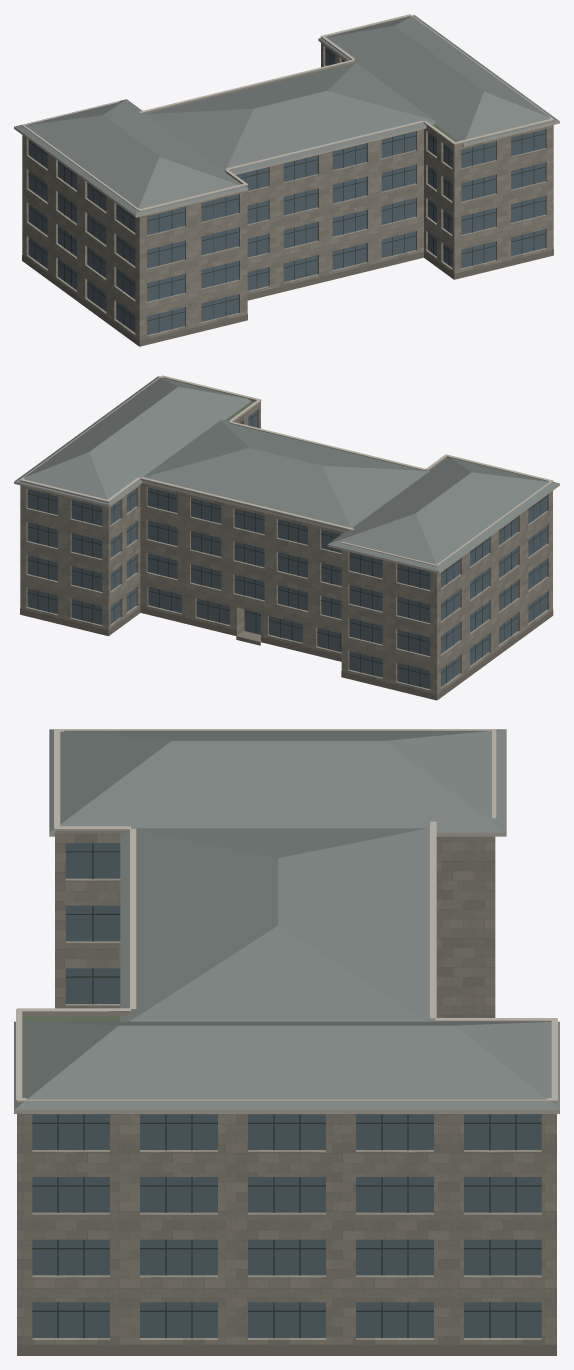
The picture shows the model from 3 angles, top to bottom: view 1: azimuth 30°, elevation 25°; view 2: azimuth 150°, elevation 25°; view 3: azimuth 270°, elevation 25°; orthographic projection. The views are drawn at different scales.
Visible parts, largest first — view 1: gradSchool__roofAccent, gradSchool__wall, gradSchool__glass, gradSchool__trim, gradSchool__frame, gradSchool__base, gradSchool__parapet; view 2: gradSchool__roofAccent, gradSchool__wall, gradSchool__glass, gradSchool__trim, gradSchool__frame, gradSchool__base, gradSchool__parapet; view 3: gradSchool__roofAccent, gradSchool__wall, gradSchool__glass, gradSchool__trim, gradSchool__base, gradSchool__frame, gradSchool__parapet.
Part boxes in pixels (left/top/right/bottom): gradSchool__roofAccent: left=14, top=15, right=559, bottom=215; gradSchool__wall: left=22, top=43, right=553, bottom=346; gradSchool__glass: left=28, top=47, right=545, bottom=335; gradSchool__trim: left=14, top=14, right=559, bottom=217; gradSchool__frame: left=28, top=50, right=545, bottom=332; gradSchool__base: left=22, top=249, right=553, bottom=346; gradSchool__parapet: left=139, top=16, right=553, bottom=212; gradSchool__roofAccent: left=14, top=376, right=559, bottom=571; gradSchool__wall: left=20, top=402, right=552, bottom=699; gradSchool__glass: left=27, top=410, right=546, bottom=689; gradSchool__trim: left=14, top=375, right=559, bottom=573; gradSchool__frame: left=27, top=414, right=547, bottom=686; gradSchool__base: left=20, top=607, right=553, bottom=700; gradSchool__parapet: left=20, top=377, right=548, bottom=565; gradSchool__roofAccent: left=14, top=729, right=559, bottom=1109; gradSchool__wall: left=17, top=833, right=556, bottom=1344; gradSchool__glass: left=32, top=843, right=541, bottom=1337; gradSchool__trim: left=14, top=729, right=559, bottom=1113; gradSchool__base: left=17, top=1344, right=556, bottom=1355; gradSchool__frame: left=32, top=843, right=541, bottom=1338; gradSchool__parapet: left=17, top=731, right=556, bottom=1103.
Size of the model in its own units: 50.8 by 18.5 by 30.8.
9 materials, 1 textured.
